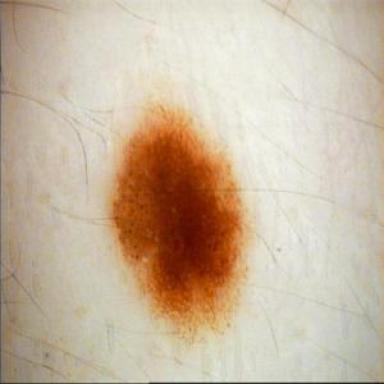Melanoma: (110, 104, 244, 327)
